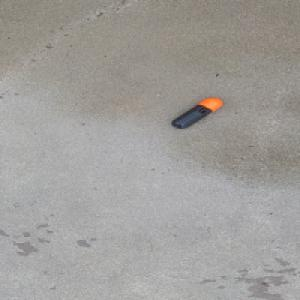PlasticPart: (170, 97, 224, 129)
